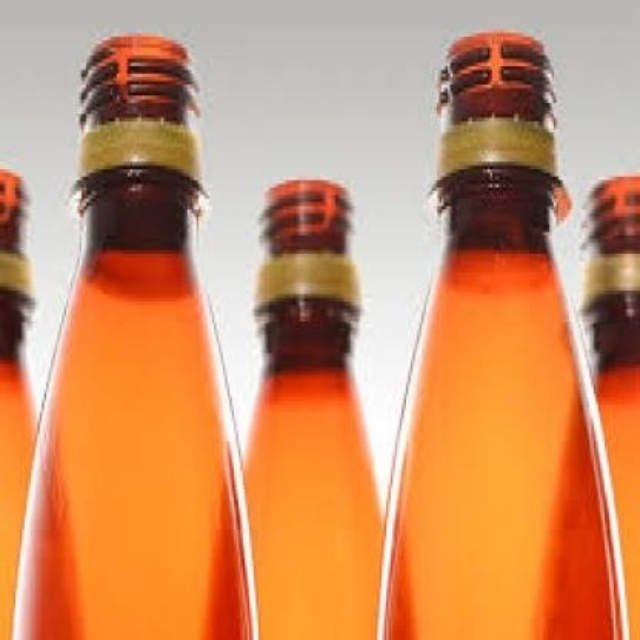trash: (14, 34, 254, 638), (383, 32, 618, 638)
